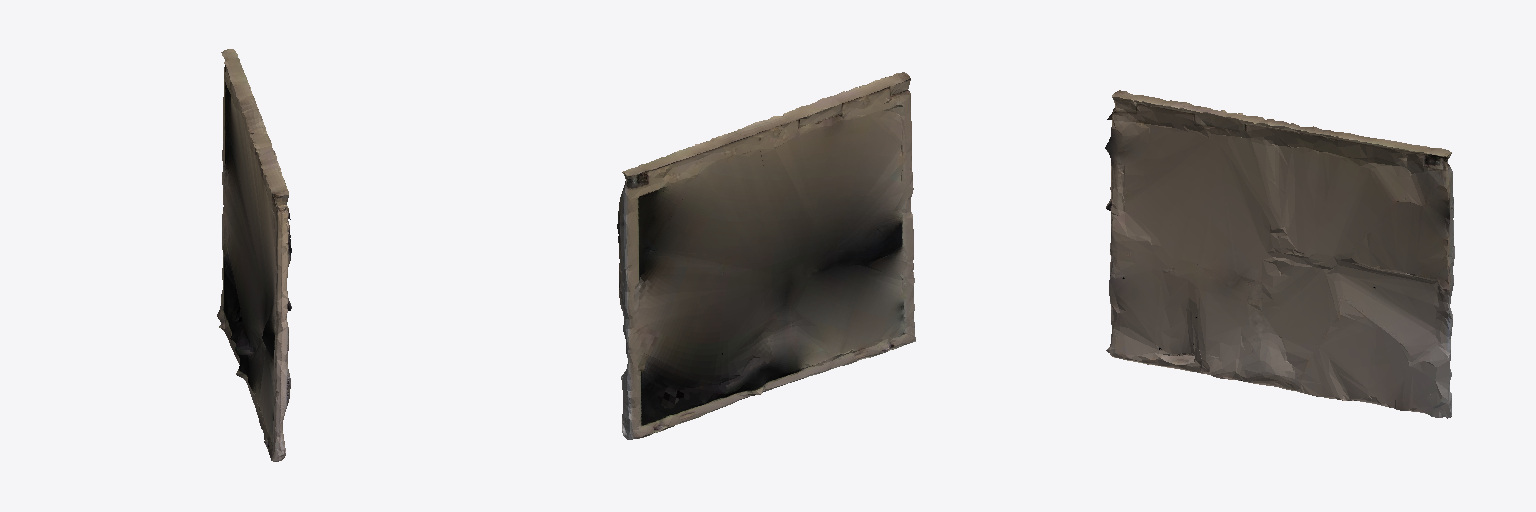
3 renders of one model, left to right at view 1: azimuth 30°, elevation 25°; view 2: azimuth 150°, elevation 25°; view 3: azimuth 270°, elevation 25°, orthographic.
Bounding box in the file's own units: 0.123 × 0.2408 × 0.2816.
Materials: 1 (1 with a texture image).